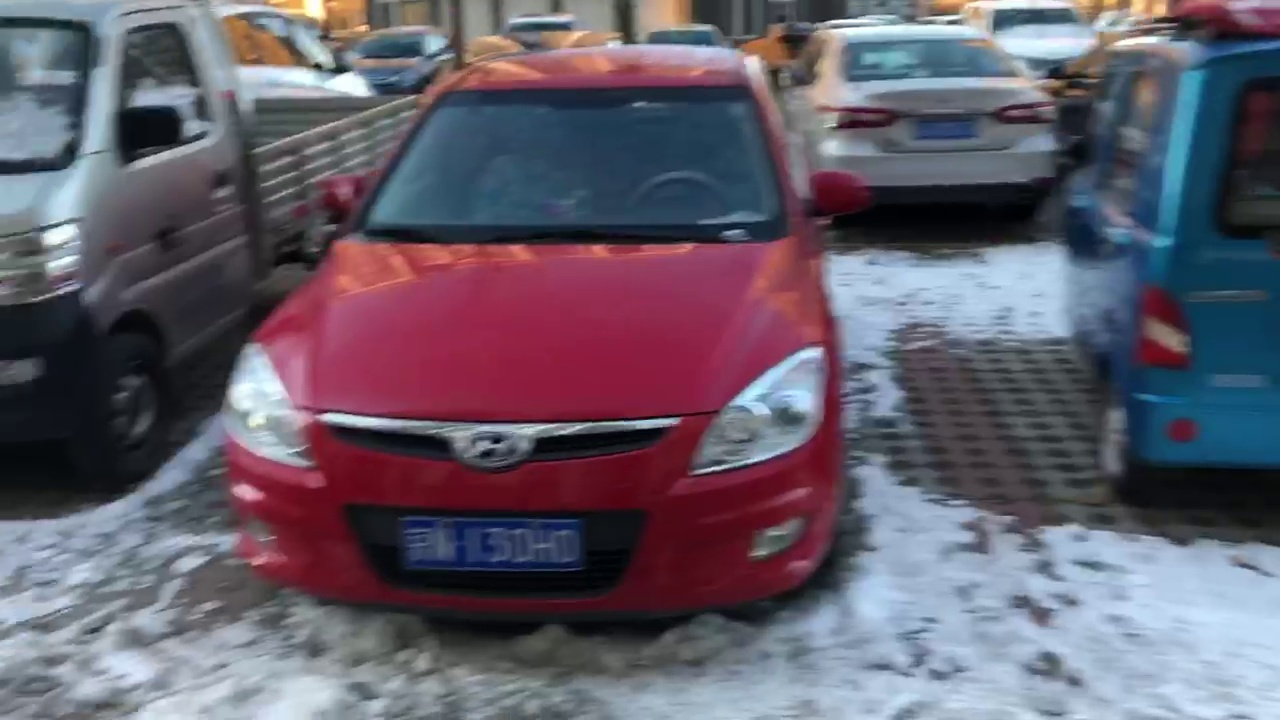plate: (403, 520, 588, 575)
